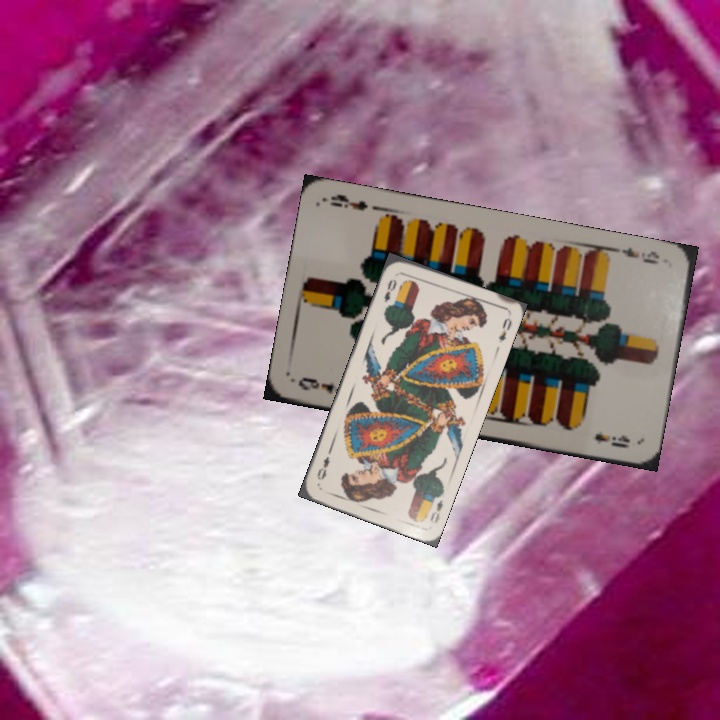E9: (611, 243, 662, 267), (294, 373, 341, 397)
EO: (380, 275, 400, 305), (426, 496, 445, 525)
